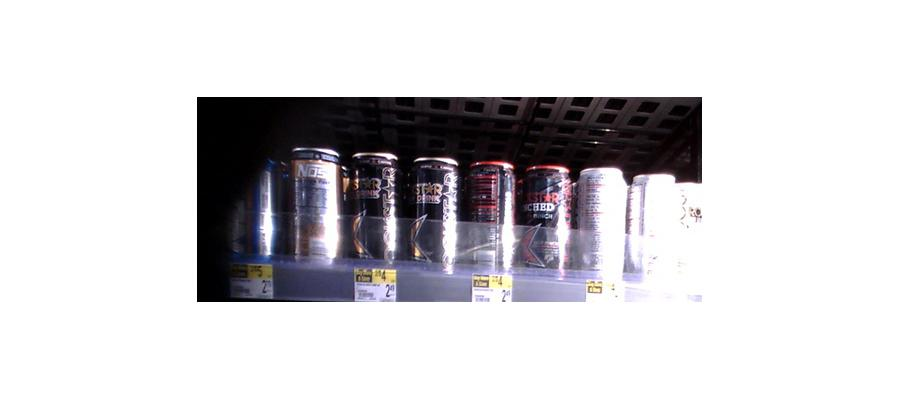bottle: (283, 143, 344, 268), (628, 180, 690, 295), (574, 167, 627, 283), (347, 150, 399, 265), (517, 163, 568, 276), (410, 156, 460, 270), (464, 161, 512, 274)
